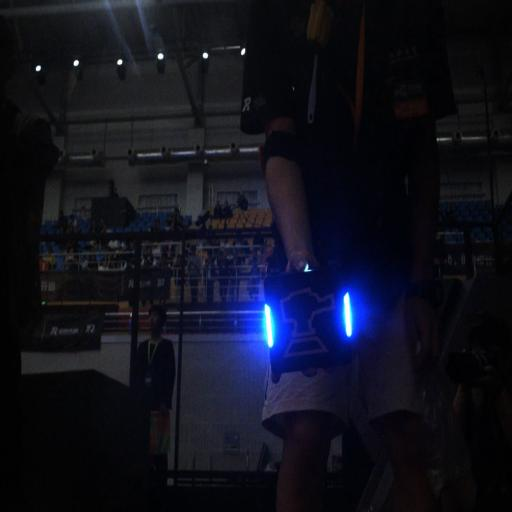target: (262, 268, 359, 376)
